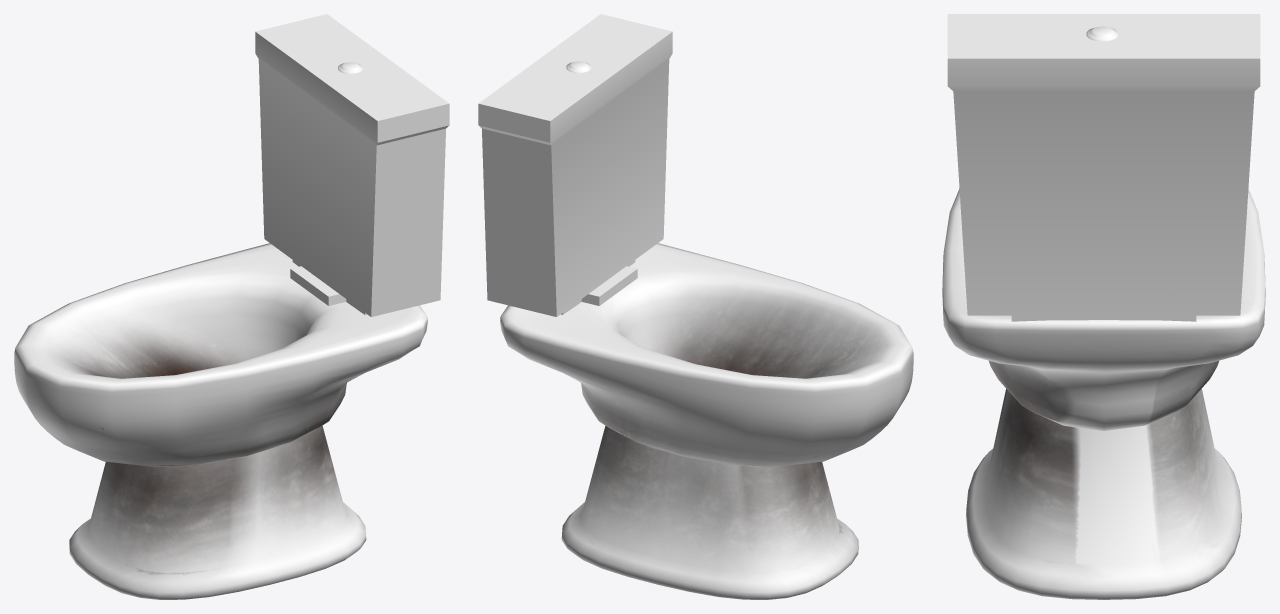
File: vaterIntacto.fbx
3 views of the same model, side by side, from view 1: azimuth 30°, elevation 25°; view 2: azimuth 150°, elevation 25°; view 3: azimuth 270°, elevation 25° (orthographic). The views are drawn at different scales.
Visible parts, largest first — view 1: vater intacto; view 2: vater intacto; view 3: vater intacto.
Boxes of the visible parts, x1=… form: vater intacto: x1=14, y1=14, x2=449, y2=599; vater intacto: x1=478, y1=14, x2=913, y2=599; vater intacto: x1=942, y1=14, x2=1265, y2=599.
Size of the model in its own units: 1302 by 1545 by 789.
